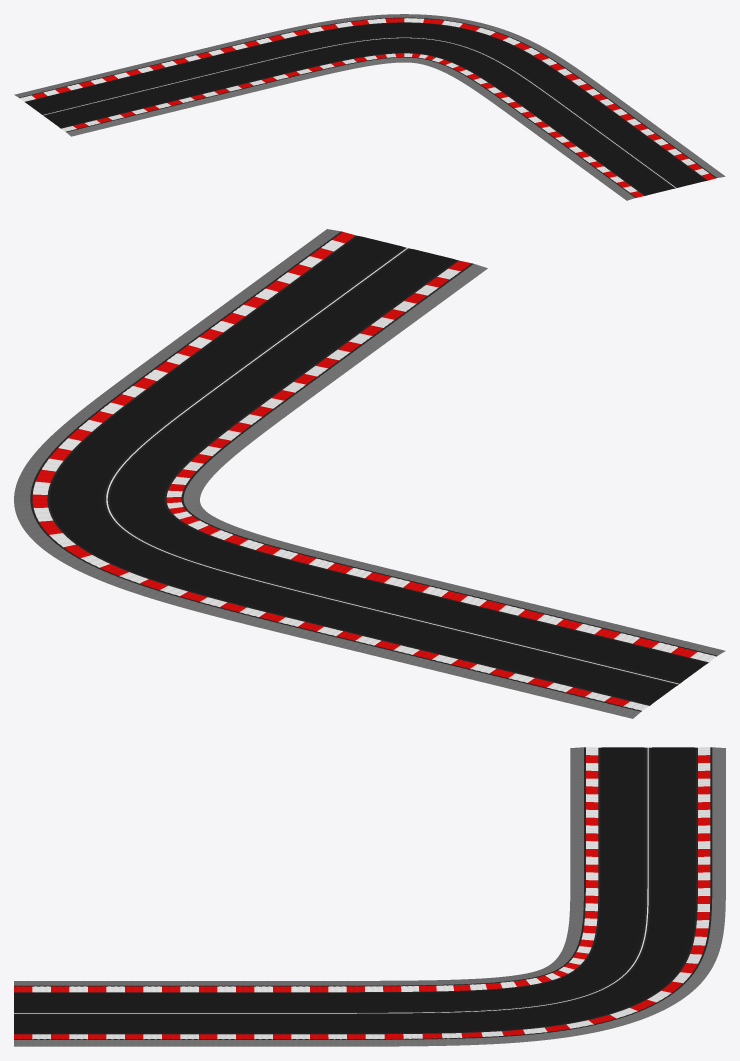
3 views of the same model, one above another, from view 1: azimuth 30°, elevation 25°; view 2: azimuth 150°, elevation 25°; view 3: azimuth 270°, elevation 25° (orthographic). The views are drawn at different scales.
Visible parts, largest first — view 1: Grid; view 2: Grid; view 3: Grid.
Boxes of the visible parts, x1=… form: Grid: x1=14, y1=14, x2=725, y2=200; Grid: x1=14, y1=229, x2=725, y2=718; Grid: x1=14, y1=747, x2=725, y2=1046.
Bounding box in the file's own units: 113 × 0.21 × 114.
